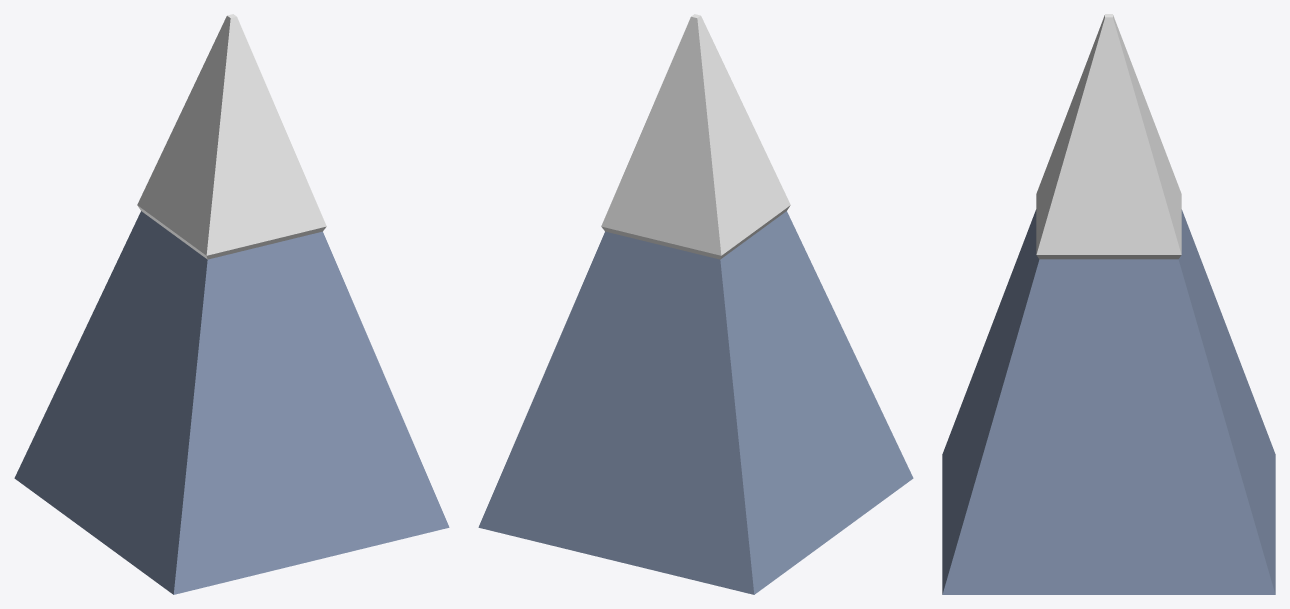
File: WinterRockC_03.fbx
3 renders of one model, left to right at view 1: azimuth 30°, elevation 25°; view 2: azimuth 150°, elevation 25°; view 3: azimuth 270°, elevation 25°, orthographic. The views are drawn at different scales.
Parts seen in each view (by area): view 1: WinterRockC_03; view 2: WinterRockC_03; view 3: WinterRockC_03.
Part boxes in pixels (x1,y1,x2,y2): WinterRockC_03: [14, 14, 449, 594]; WinterRockC_03: [478, 14, 913, 594]; WinterRockC_03: [942, 14, 1275, 594].
Bounding box in the file's own units: 0.6416 × 1.08 × 0.6417.
